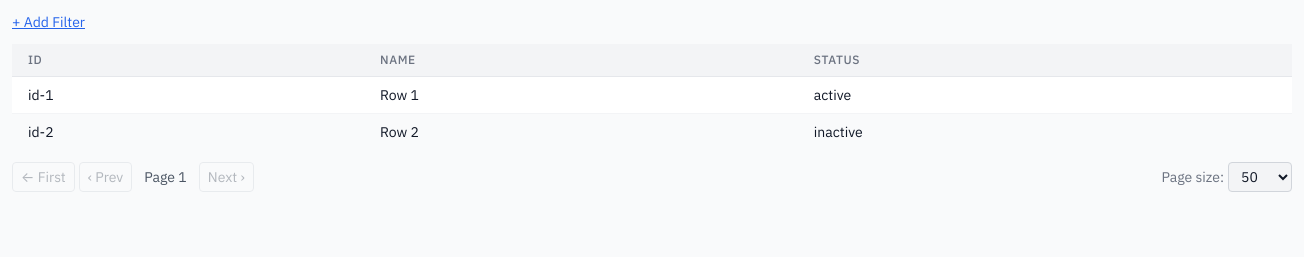
it: CsvPreviewPanel › filters › Add Filter appends a filter row with column select
The image size is (1304, 257).
Expected: the text "Row 1" is shown, 364,76 -> 798,114
What coordinates should you click on to do the following:
click the button "+ Add Filter"
I would click on:
 (48, 22)
Its box is 12,12 -> 85,32.
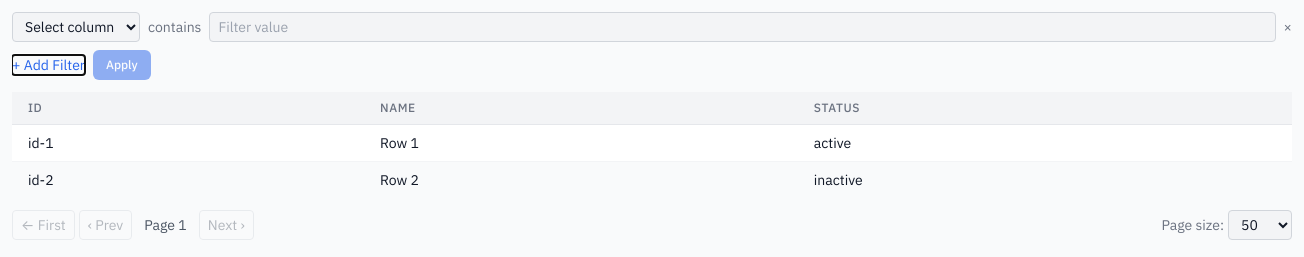
Expected: the dropdown named "Filter column" is shown, 12,12 -> 140,42
Expected: the field labelled "Filter value" is shown, 209,12 -> 1276,42
